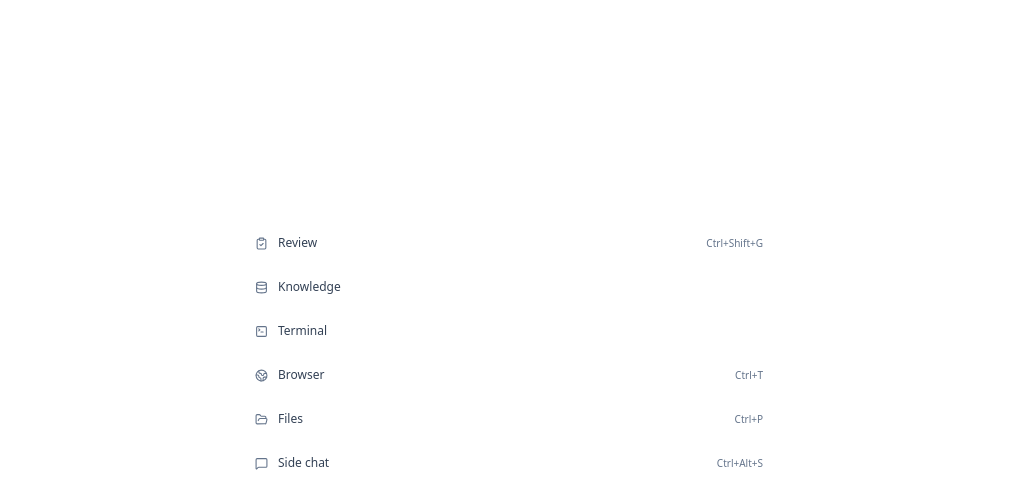
Scenario: workspace panel › does not render an untracked directory marker as a diff file
Click the button "Review Ctrl+Shift+G". click: (298, 243)
box: [242,223,782,263]
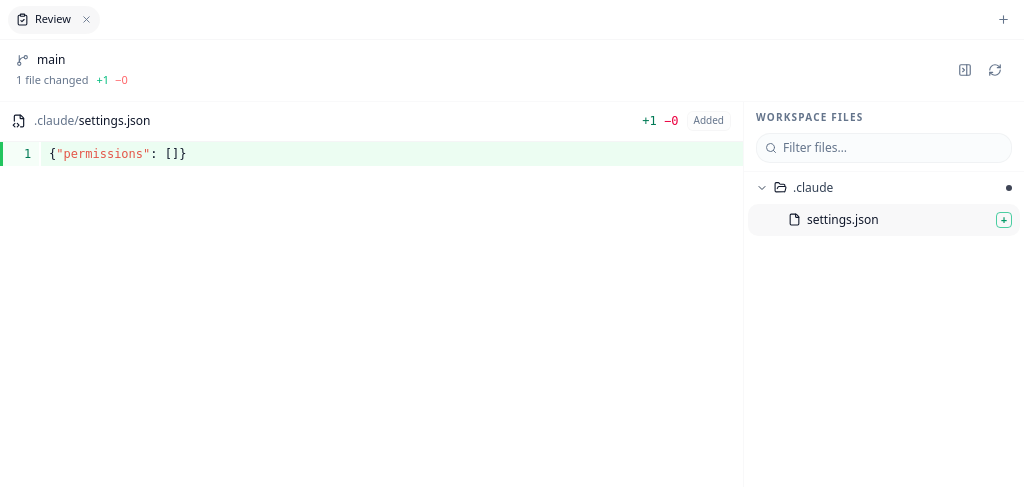
Now the text "1 file changed" is shown, box [16,72,128,88]
Now the button with aria-label "File .claude/settings.json" is shown, box [748,204,1020,236]
